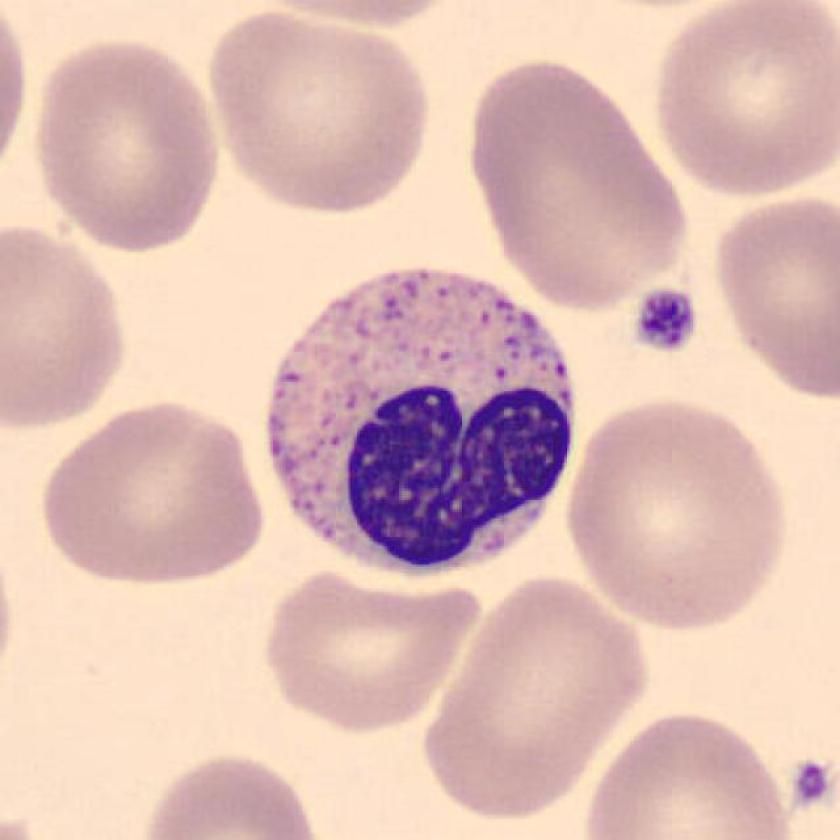neutrophil: (268, 268, 578, 571)
